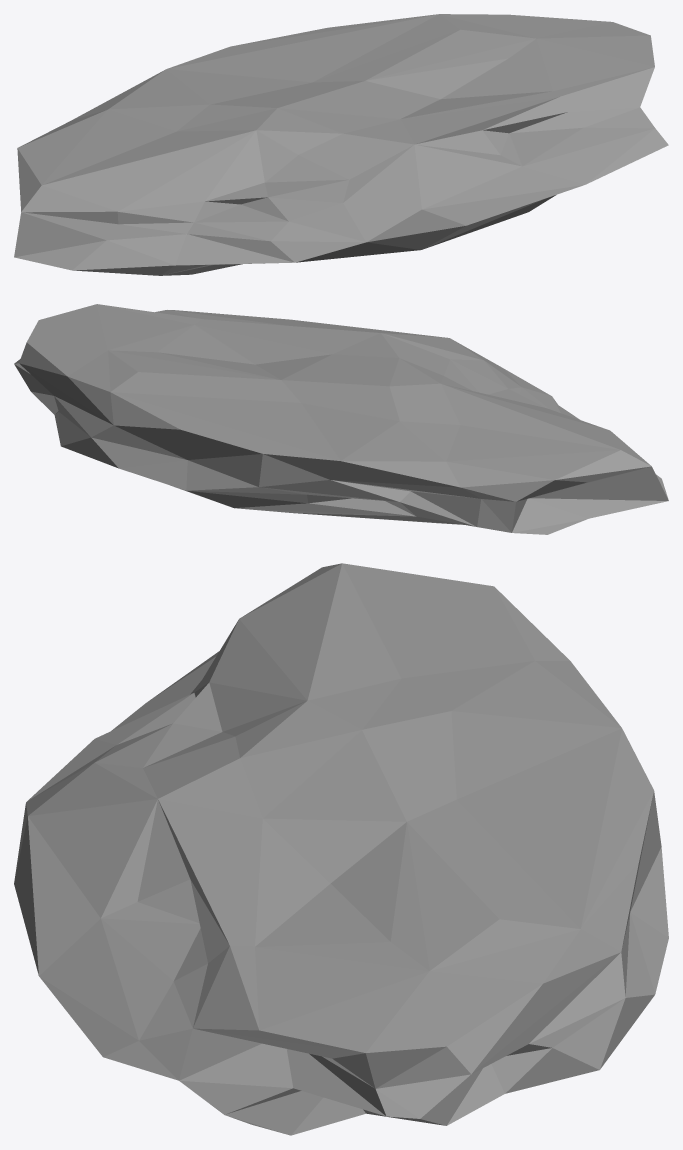
The model's file is FlatRock.obj.
3 views of the same model, one above another, from view 1: azimuth 30°, elevation 25°; view 2: azimuth 150°, elevation 25°; view 3: azimuth 270°, elevation 25° (orthographic). The views are drawn at different scales.
Visible parts, largest first — view 1: Cube; view 2: Cube; view 3: Cube.
Part boxes in pixels (x1=…): Cube: x1=14, y1=14, x2=668, y2=275; Cube: x1=14, y1=304, x2=668, y2=534; Cube: x1=14, y1=563, x2=668, y2=1135.
Size of the model in its own units: 6.8 by 1.05 by 3.63.
1 material, 1 textured.
